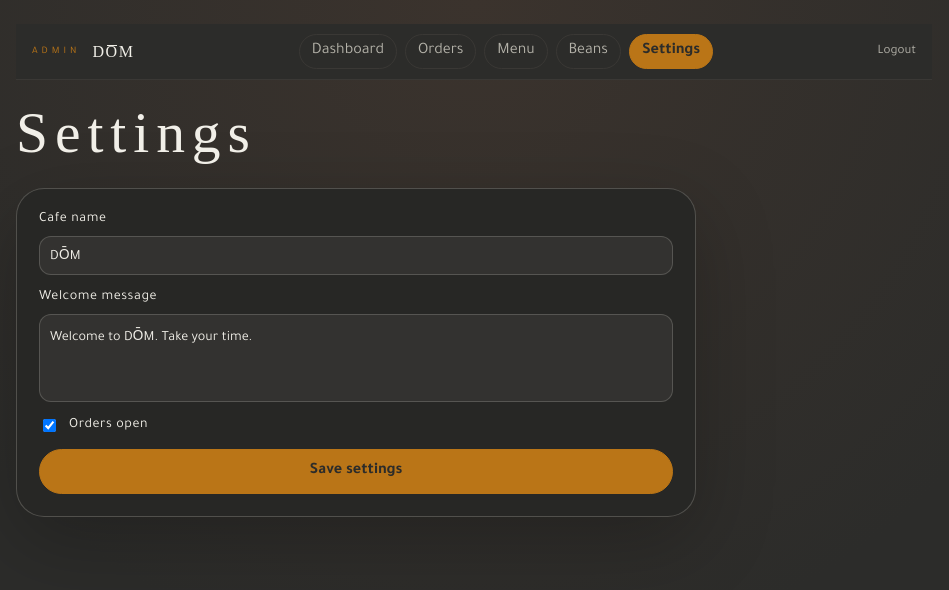
Test: Phase 4 admin settings page › loads and saves cafe settings with the stored admin token
This screenshot has width=949, height=590.
Expected: the heading "Settings" is shown, [16,101,257,164]
Step 1. Replace the text in the field labelled "Cafe name" with "DŌM Home Café" → [356, 255], box [39,236,673,275]
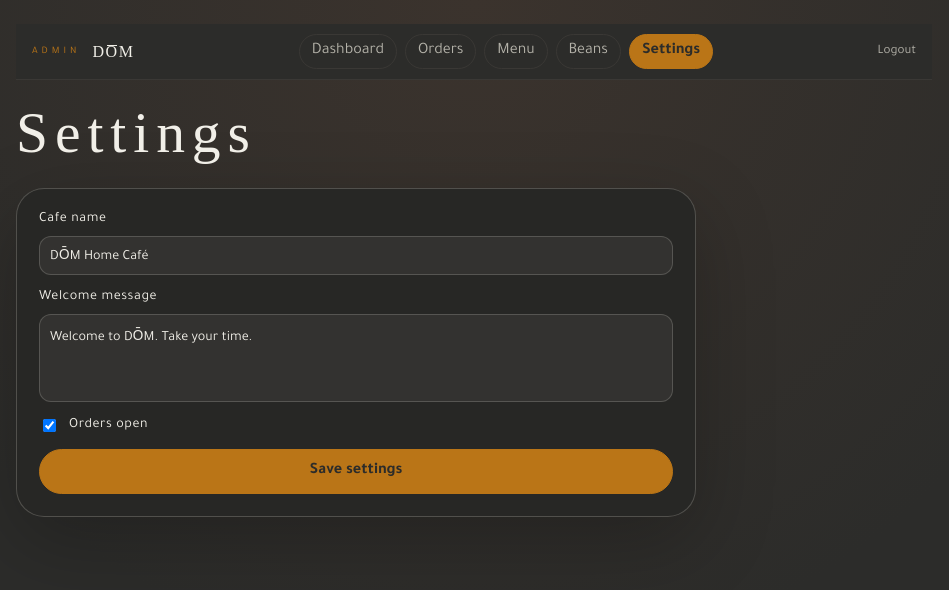
Step 2. Replace the text in the text box labelled "Welcome message" with "Welcome in. Take your time." → [356, 358], box [39,314,673,402]
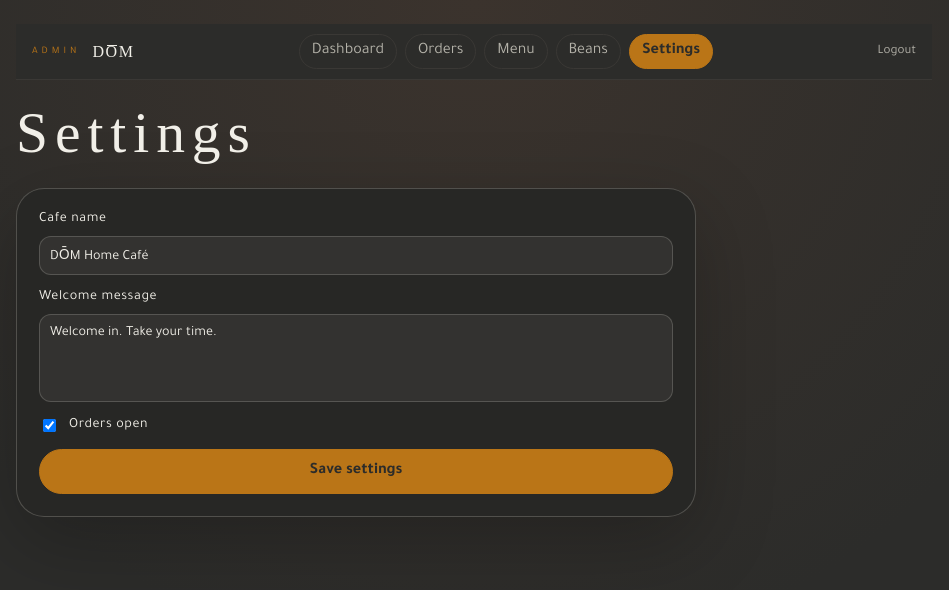
Step 3. Click the checkbox labelled "Orders open" → [50, 425], box [43,419,56,432]
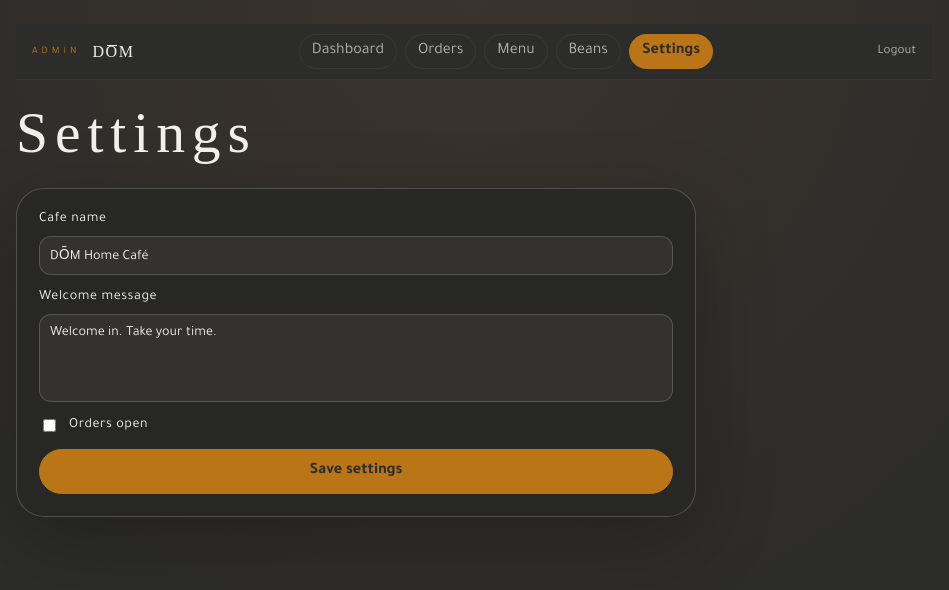
Step 4. Click the button "Save settings" → [356, 471], box [39,449,673,494]
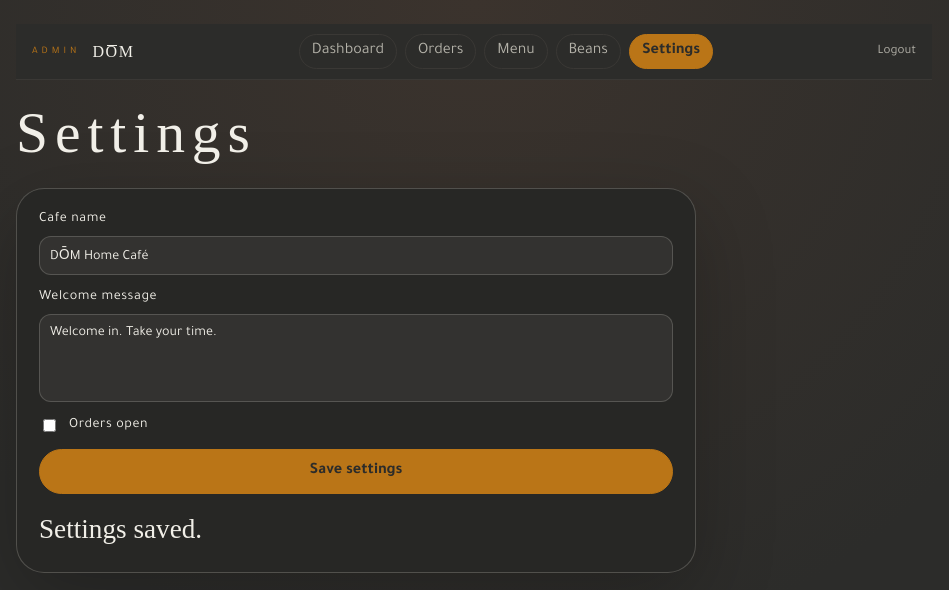
Result: the text "Settings saved." is shown at [39,514,202,544]
